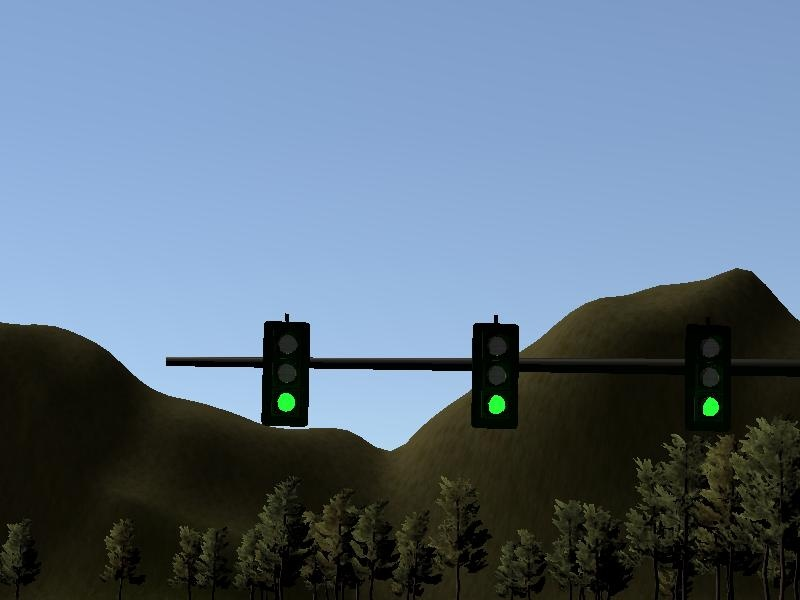GREEN: (683, 327, 736, 434), (470, 321, 520, 430), (262, 321, 310, 426)
